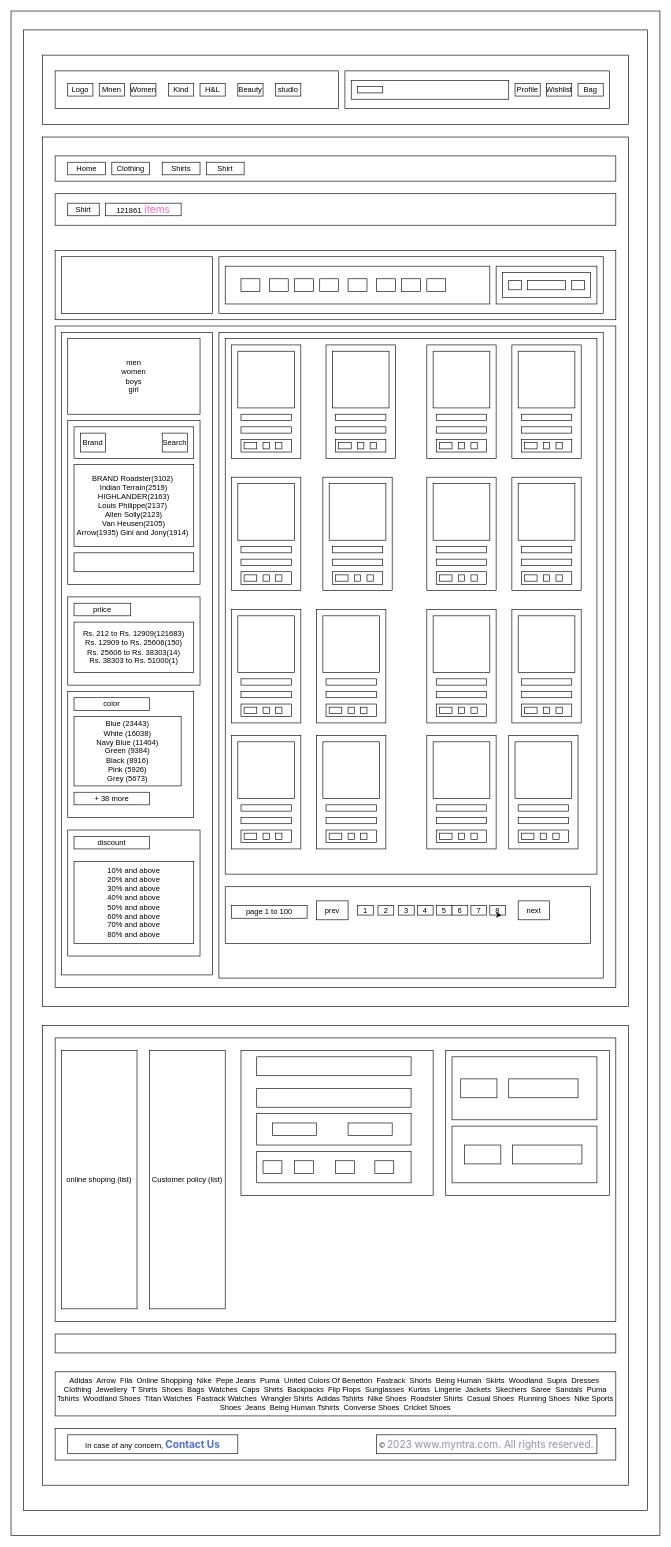
Image size: 671x1547. Some labels were removed from this diagram. Here are the shapes that lost their labels. From the top down, the centre of each, then its label:
the point at 137,284: filter
the point at 133,562: + 990 more
the point at 335,1343: POPULAR SEARCHE
